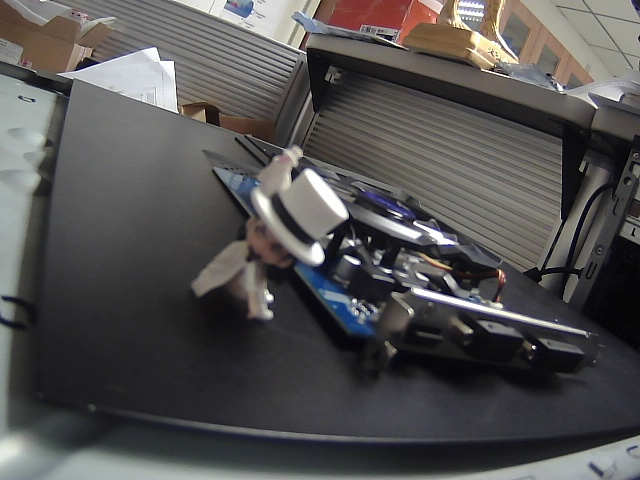lucci: (187, 141, 353, 349)
